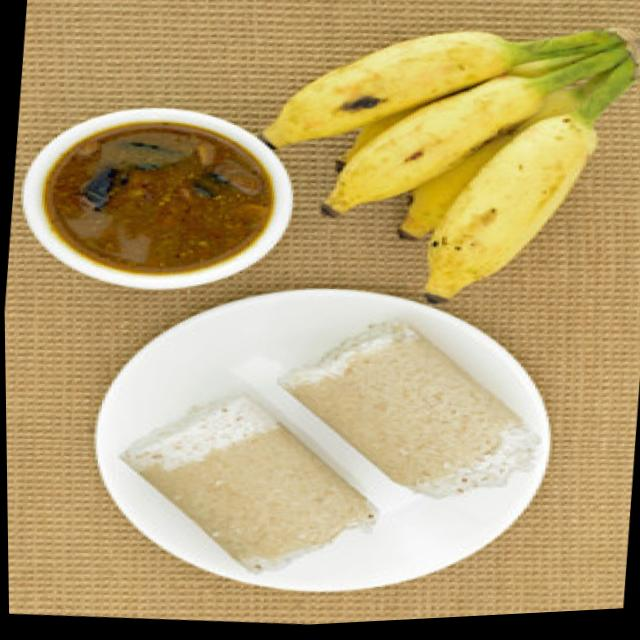BANANA: (255, 23, 640, 303)
CURRY: (45, 119, 267, 272)
PUTTU: (116, 321, 550, 574)
